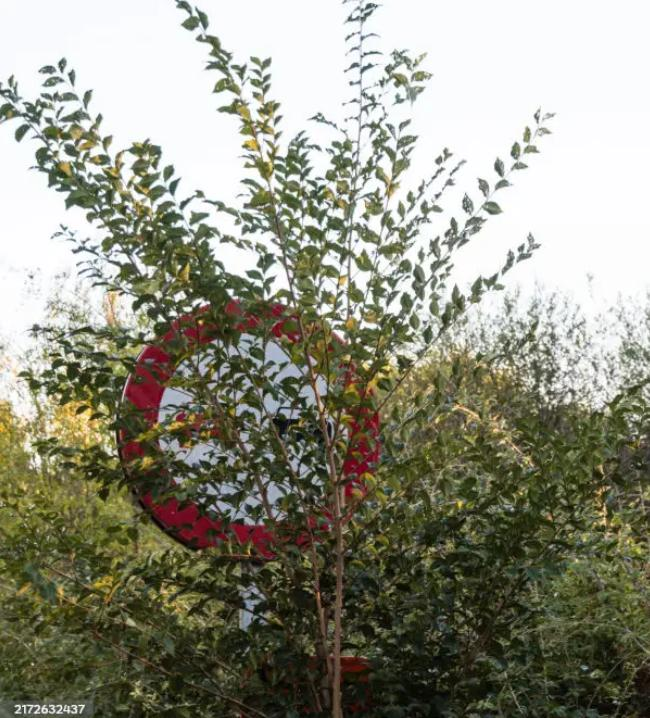obstructed_road_sign: (116, 301, 381, 558)
